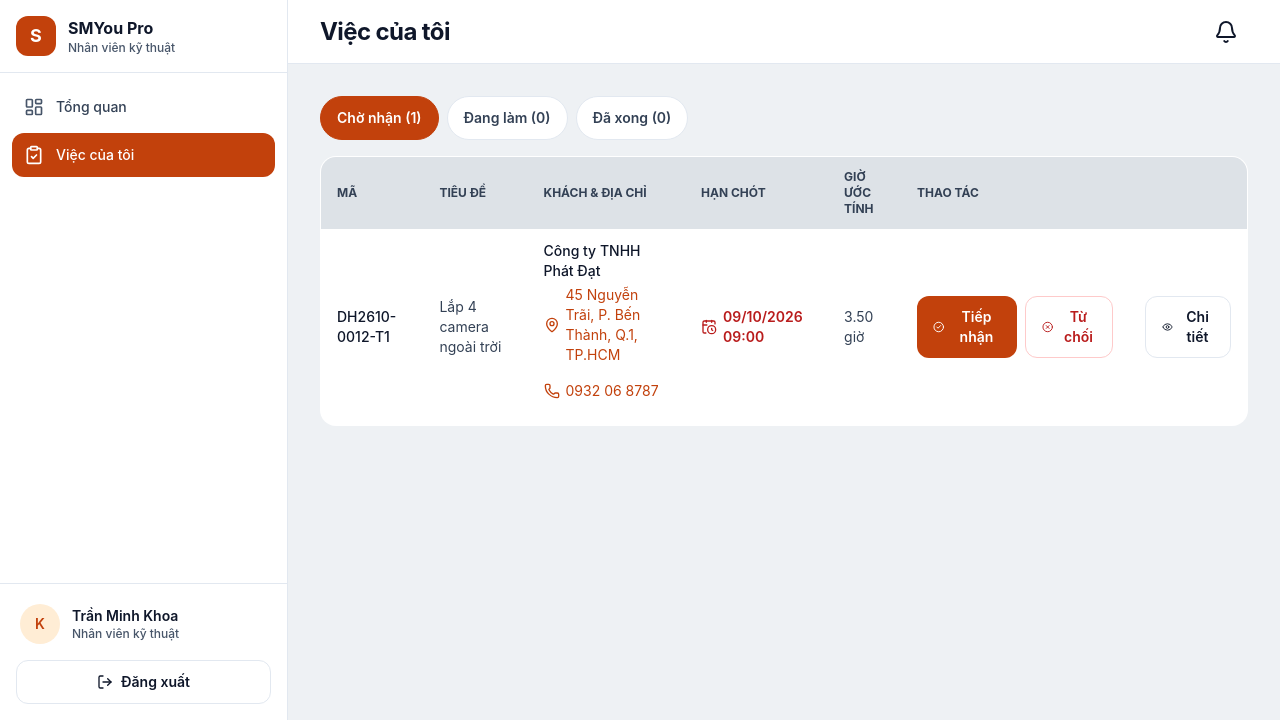
Test: Việc của tôi › AC-ASG-012 tab rỗng hiện trạng thái rỗng tiếng Việt
Expected: the element showing "Chờ nhận (1) Đang làm (0) Đã xong (0)" is shown, [320, 96, 688, 140]
Click the tab "Đang làm (0)".
click(507, 118)  # box [447, 96, 568, 140]
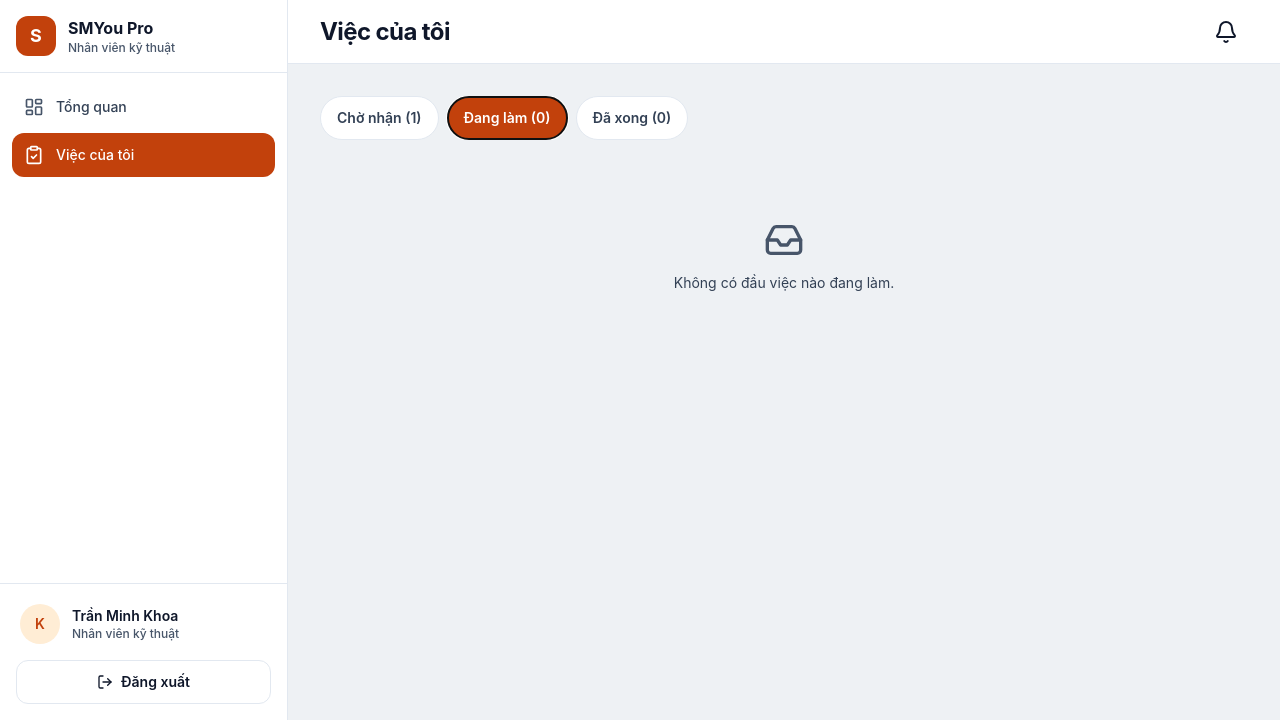
Expected: the text "Không có đầu việc nào đang làm." is shown, [674, 272, 894, 295]
